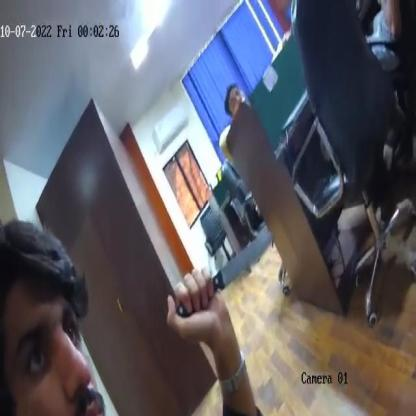Knife: (166, 229, 274, 337)
